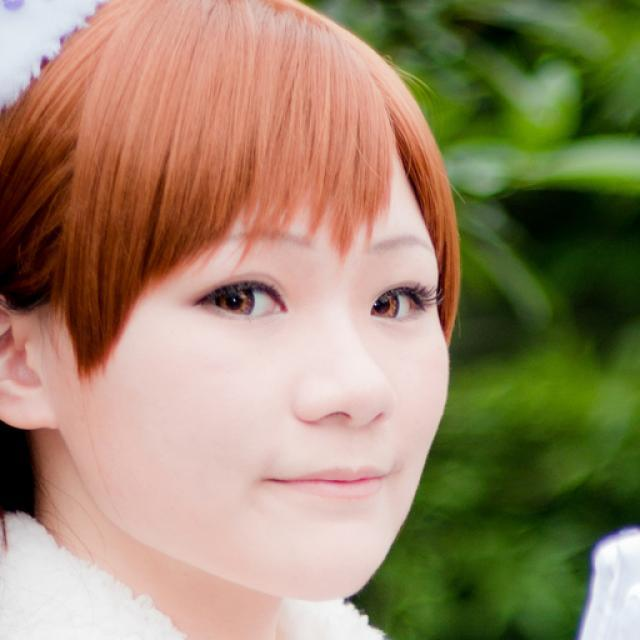neutral: (60, 113, 451, 601)
